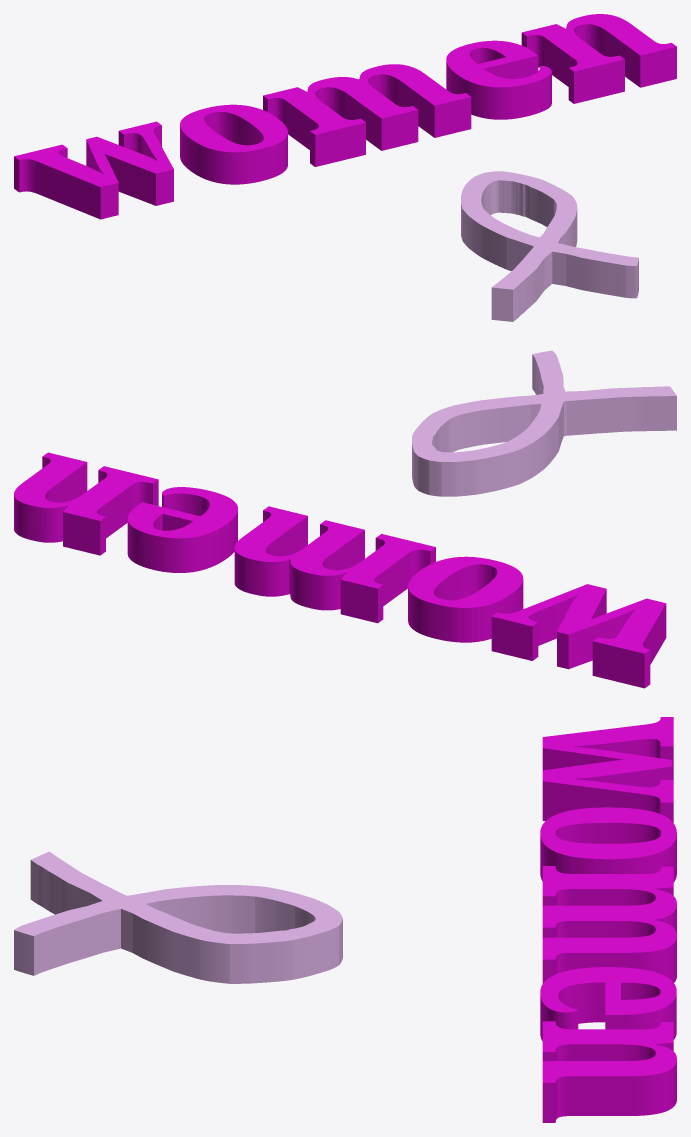
The model's file is fiocco rosa.gltf.
3 views of the same model, one above another, from view 1: azimuth 30°, elevation 25°; view 2: azimuth 150°, elevation 25°; view 3: azimuth 270°, elevation 25° (orthographic). The views are drawn at different scales.
Parts seen in each view (by area): view 1: scritta, fiocco; view 2: scritta, fiocco; view 3: scritta, fiocco.
Boxes of the visible parts, x1,y1,x2,y2 form: scritta: (14, 14, 676, 219); fiocco: (461, 171, 638, 321); scritta: (14, 452, 666, 688); fiocco: (412, 350, 676, 496); scritta: (540, 717, 676, 1122); fiocco: (14, 851, 342, 983).
Bounding box in the file's own units: 32.36 × 1.64 × 24.77.
